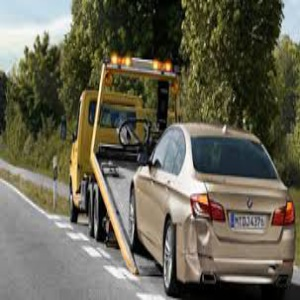bumper: (177, 218, 226, 272)
